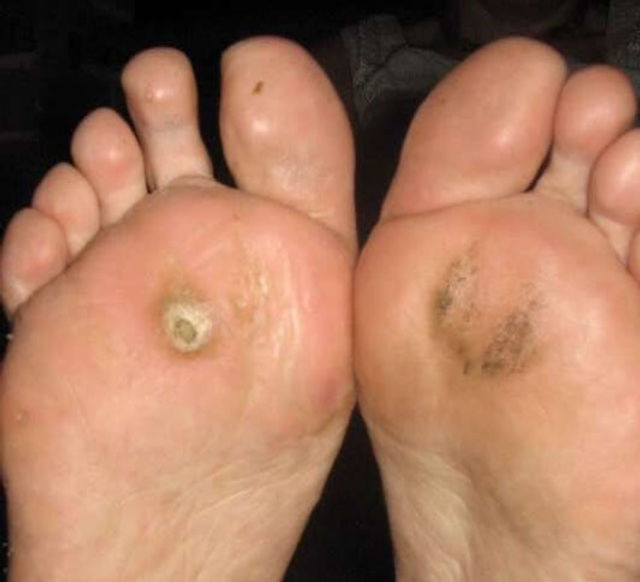Warts: (426, 231, 556, 396), (144, 248, 278, 370)
